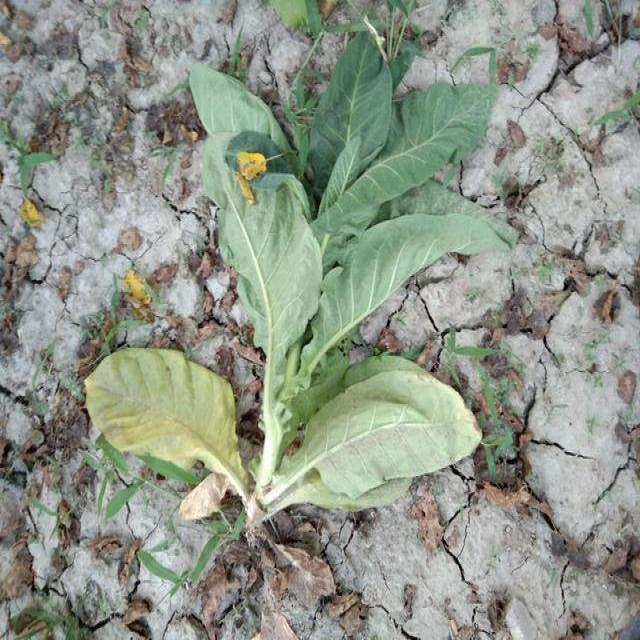crop: (108, 29, 515, 528)
